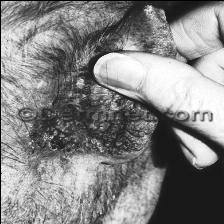Potentially Malignant Skin Tumors: (31, 122, 150, 150), (46, 82, 142, 108)
